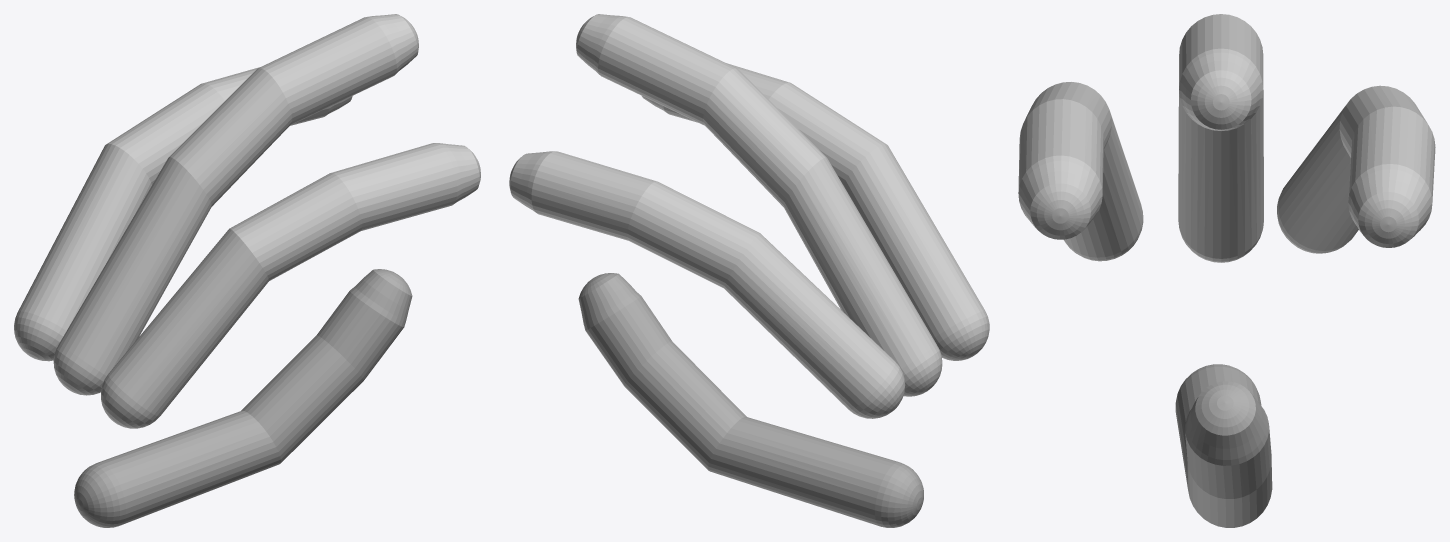
File: bossHand.obj
3 views of the same model, side by side, from view 1: azimuth 30°, elevation 25°; view 2: azimuth 150°, elevation 25°; view 3: azimuth 270°, elevation 25° (orthographic). The views are drawn at different scales.
Parts seen in each view (by area): view 1: yubi; view 2: yubi; view 3: yubi.
Part boxes in pixels (left/top/right/bottom): yubi: left=14, top=14, right=480, bottom=527; yubi: left=509, top=14, right=989, bottom=527; yubi: left=1018, top=14, right=1435, bottom=527.
Bounding box in the file's own units: 12.35 × 14.48 × 9.71.
